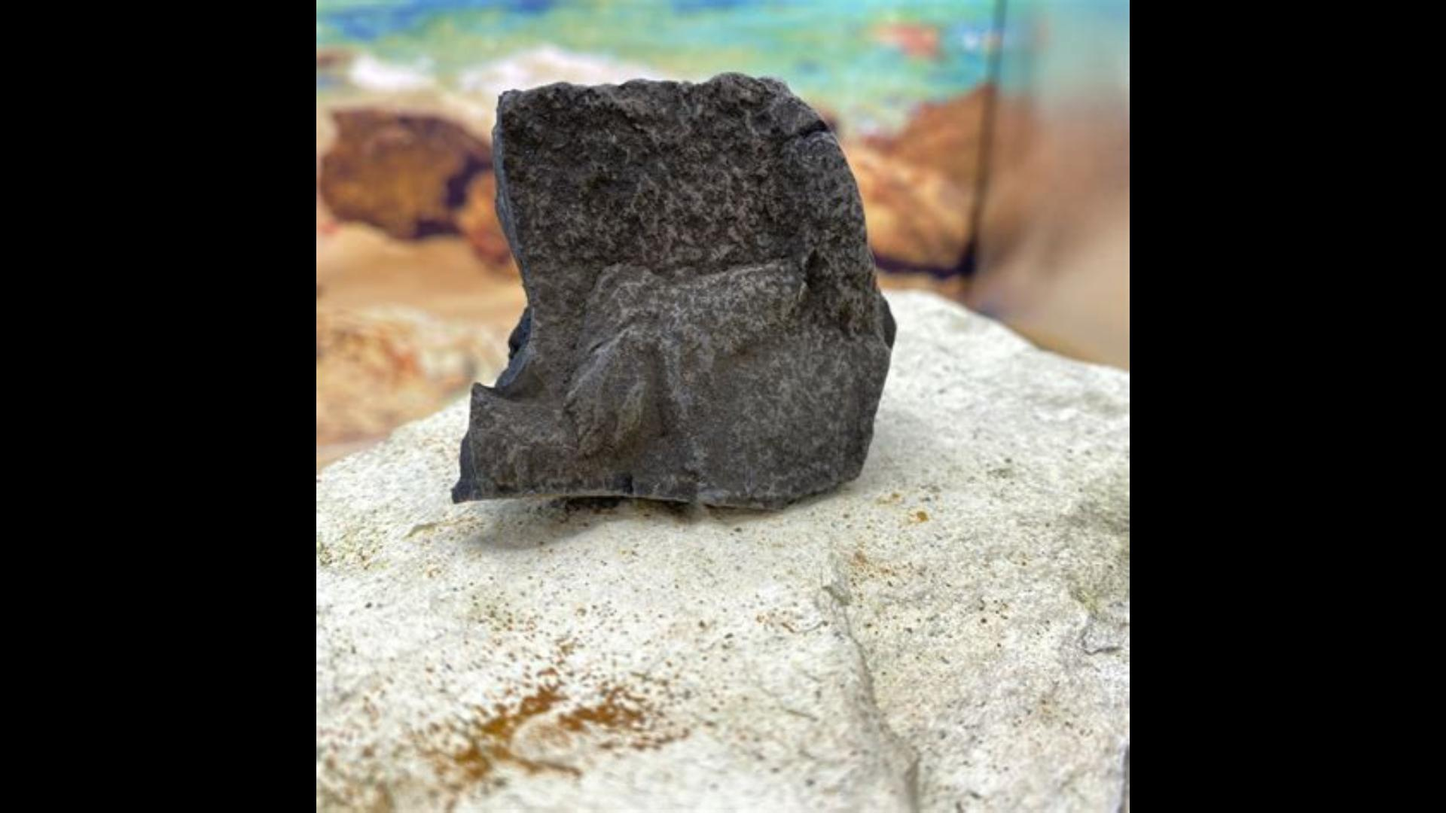rock: (455, 75, 893, 504)
